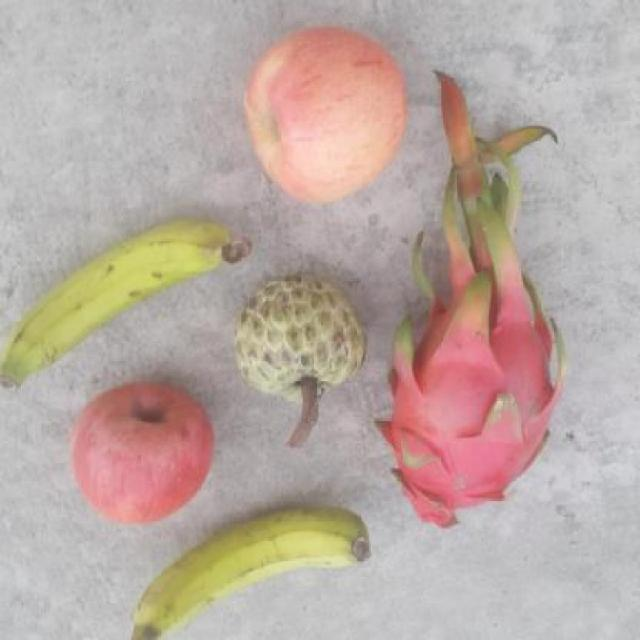apple: (242, 28, 406, 210), (60, 379, 214, 526)
banana: (0, 216, 232, 392), (111, 506, 372, 640)
dragon fruit: (362, 278, 573, 530)
sugar apple: (230, 270, 372, 445)
